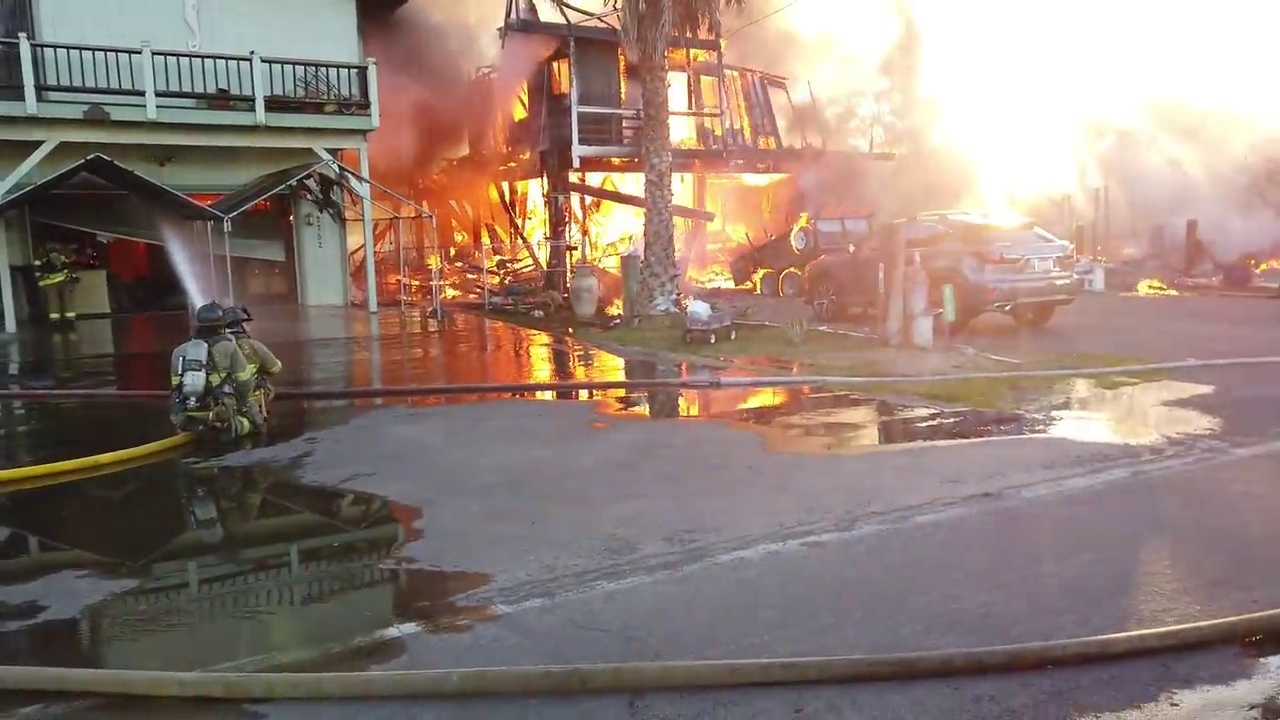fire: (360, 1, 889, 334), (98, 240, 149, 285), (1120, 276, 1184, 295), (1248, 248, 1279, 272), (189, 190, 221, 207), (250, 199, 280, 217), (605, 294, 623, 312)
smoke: (911, 1, 1280, 249), (346, 1, 526, 187)
